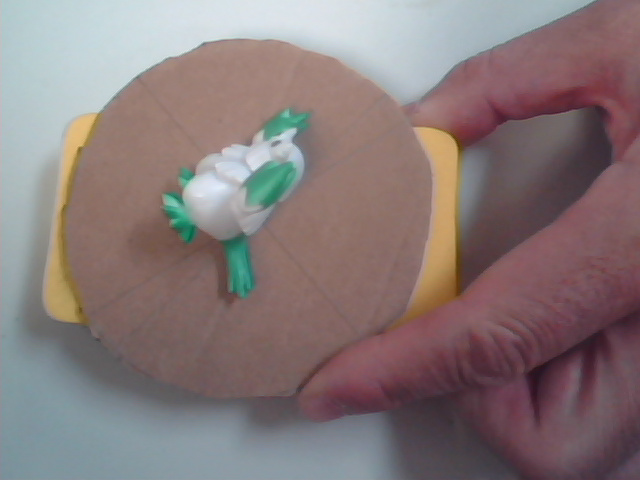abomasnow: (133, 86, 365, 312)
